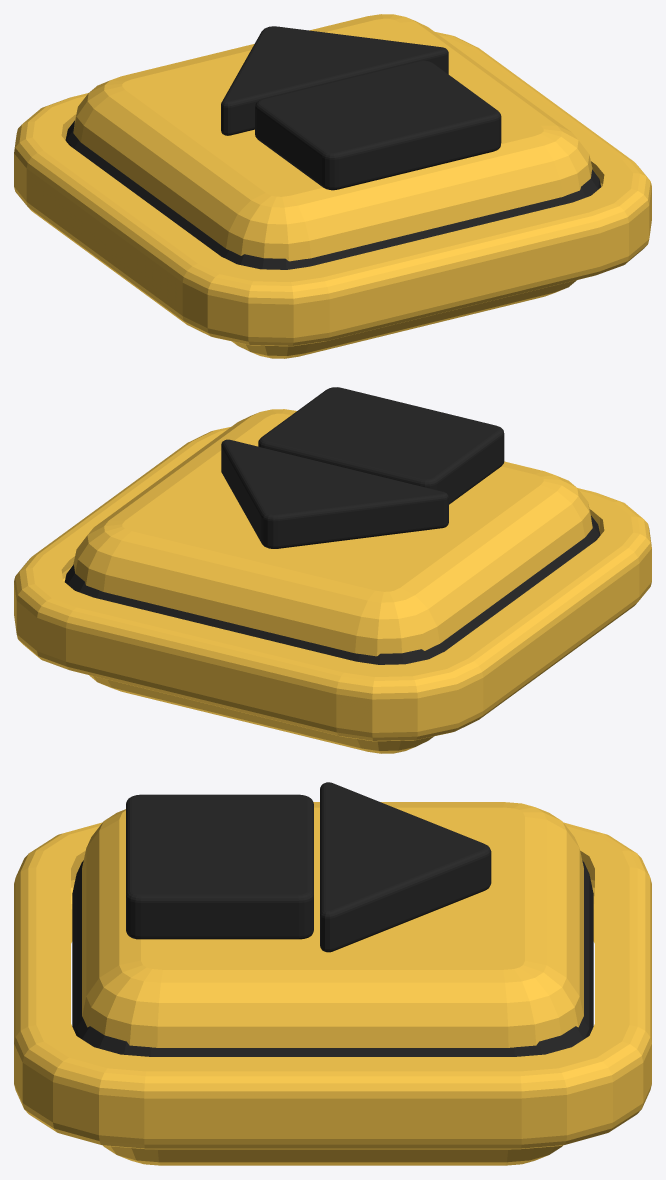
File: Button_Home.fbx
The picture shows the model from 3 angles, top to bottom: view 1: azimuth 30°, elevation 25°; view 2: azimuth 150°, elevation 25°; view 3: azimuth 270°, elevation 25°; orthographic projection. The views are drawn at different scales.
Parts seen in each view (by area): view 1: Cube_12, Cube, Cube_1_2, Cube_1, Cube_10; view 2: Cube, Cube_12, Cube_1_2, Cube_1, Cube_10; view 3: Cube, Cube_12, Cube_1_2, Cube_1, Cube_10.
Boxes of the visible parts, left/top/right/bottom form: Cube_12: left=14, top=32, right=651, bottom=346; Cube: left=73, top=14, right=592, bottom=358; Cube_1_2: left=255, top=60, right=501, bottom=190; Cube_1: left=221, top=26, right=448, bottom=135; Cube_10: left=65, top=120, right=601, bottom=269; Cube: left=73, top=409, right=592, bottom=753; Cube_12: left=14, top=427, right=651, bottom=741; Cube_1_2: left=258, top=387, right=504, bottom=504; Cube_1: left=221, top=439, right=448, bottom=548; Cube_10: left=64, top=515, right=600, bottom=664; Cube: left=82, top=802, right=583, bottom=1165; Cube_12: left=14, top=822, right=651, bottom=1149; Cube_1_2: left=126, top=794, right=313, bottom=939; Cube_1: left=320, top=782, right=491, bottom=952; Cube_10: left=72, top=860, right=593, bottom=1056.
Bounding box in the file's own units: 254 × 103 × 254.
